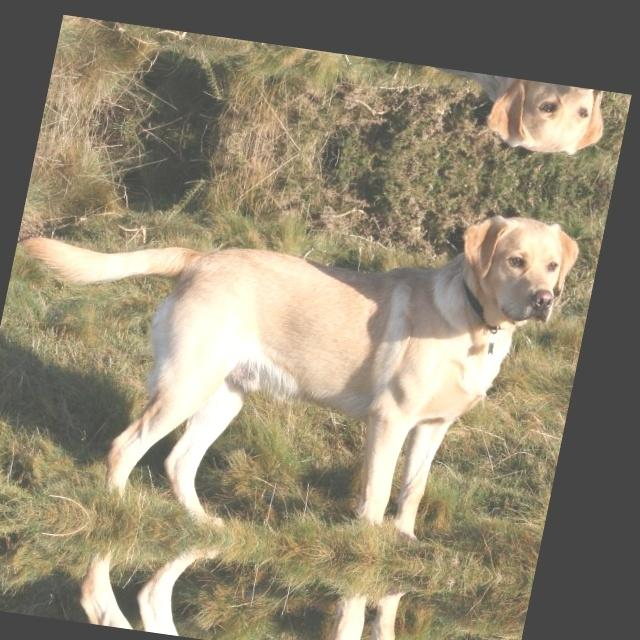dog: (430, 195, 593, 345), (464, 74, 618, 172)
